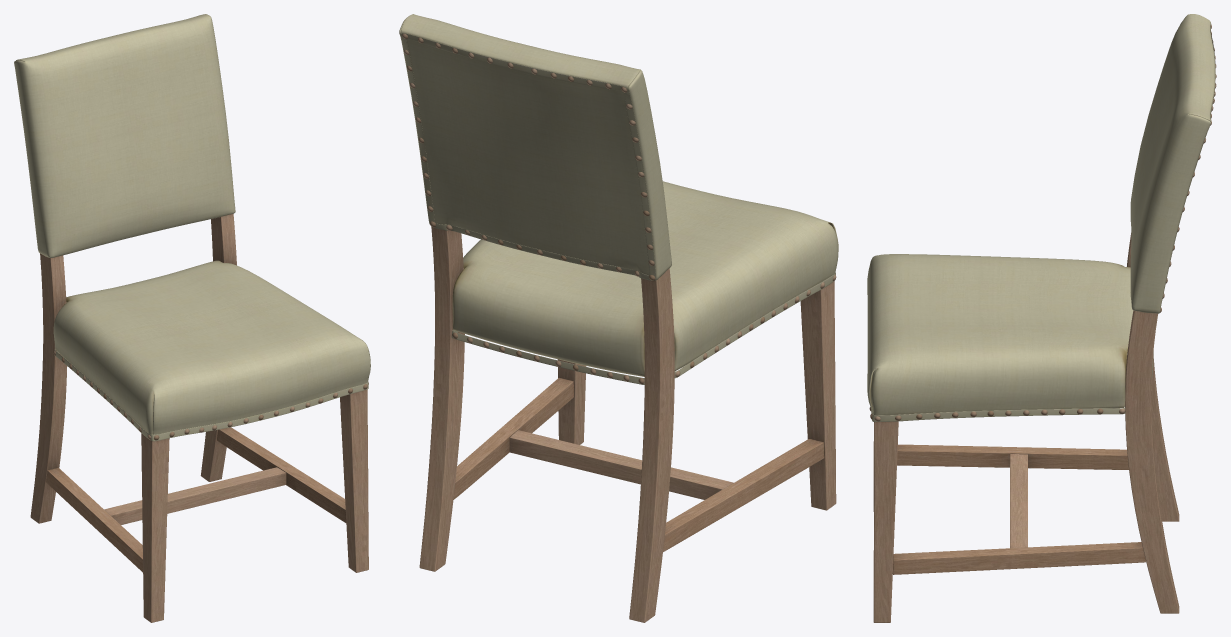
The model's file is stool_B07HSF46KW.glb.
3 renders of one model, left to right at view 1: azimuth 30°, elevation 25°; view 2: azimuth 150°, elevation 25°; view 3: azimuth 270°, elevation 25°, orthographic. The views are drawn at different scales.
Visible parts, largest first — view 1: RootNode; view 2: RootNode; view 3: RootNode.
Boxes of the visible parts, x1,y1,x2,y2 form: RootNode: (14, 14, 370, 622); RootNode: (399, 14, 838, 622); RootNode: (867, 14, 1216, 622).
Bounding box in the file's own units: 0.5075 × 0.9859 × 0.6232.
Materials: 1 (1 with a texture image).
